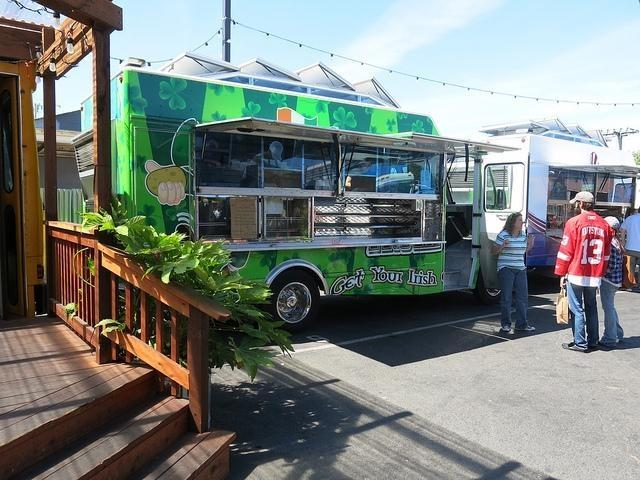truck: (104, 68, 516, 326), (475, 118, 639, 302)
